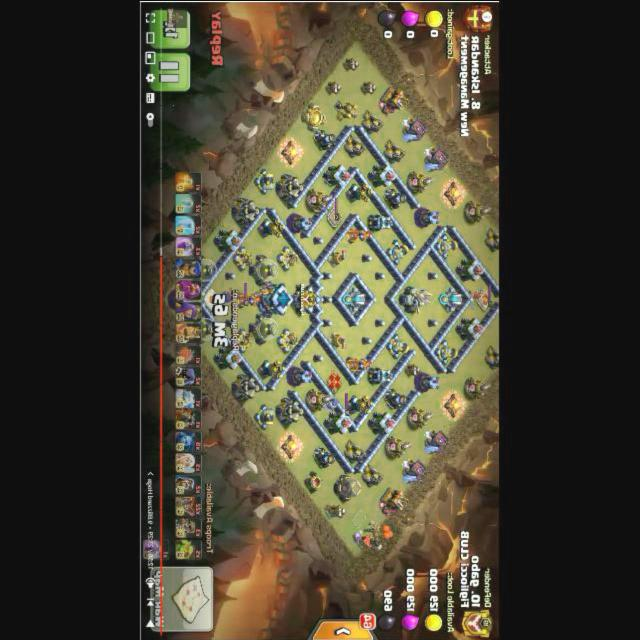AD: (257, 359, 287, 379), (257, 218, 287, 238), (346, 395, 375, 415), (346, 183, 374, 203)
AirSweeper: (327, 248, 348, 268), (327, 331, 348, 349)
BombTower: (369, 367, 395, 383), (368, 214, 395, 229)
Canon: (435, 339, 459, 365), (435, 233, 459, 259), (387, 333, 411, 359), (387, 239, 411, 265), (254, 404, 277, 430), (254, 168, 276, 194)
ClanCastle: (292, 284, 323, 313)
Eagle: (399, 286, 434, 313)
Inferno: (234, 290, 261, 309), (347, 227, 373, 243), (346, 356, 372, 372)
KingPad: (477, 287, 494, 310)
Mortar: (383, 186, 408, 209), (313, 128, 339, 150), (313, 445, 337, 468), (385, 387, 409, 409)
QueenPad: (326, 368, 343, 393)
RcPad: (328, 207, 343, 226)
Scattershot: (342, 286, 369, 311), (440, 286, 466, 311)
TH13: (255, 283, 296, 315)
WardenPad: (203, 288, 220, 309)
WizzTower: (166, 289, 195, 311), (414, 372, 441, 392), (414, 207, 441, 227), (286, 213, 313, 233), (286, 366, 313, 385)
Xbow: (276, 245, 301, 271), (231, 328, 256, 354), (277, 328, 301, 354), (232, 245, 255, 271)
